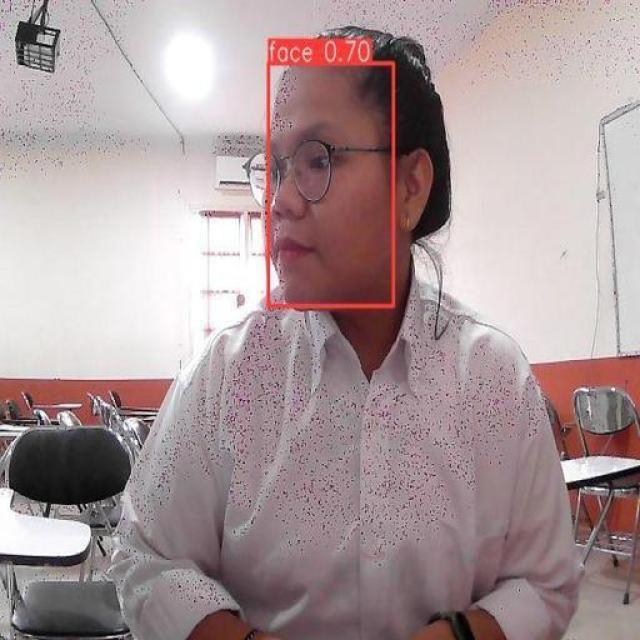bareface: (268, 38, 428, 320)
